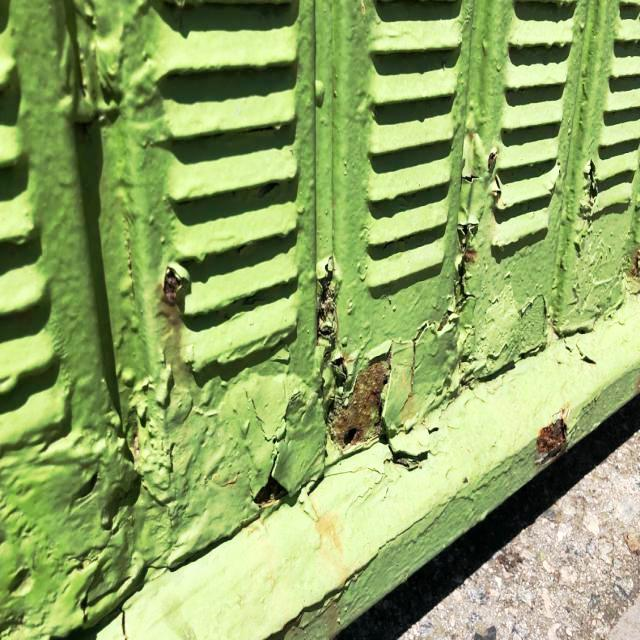Corrosion: (326, 353, 393, 451), (316, 249, 343, 350), (455, 218, 483, 276), (532, 420, 570, 461), (580, 153, 598, 239), (390, 449, 433, 472), (257, 477, 285, 508), (159, 270, 184, 304), (628, 245, 640, 280)
